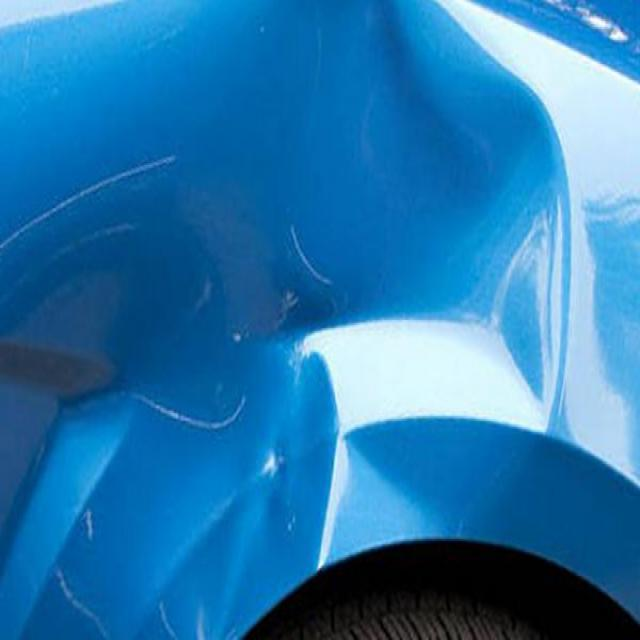dent: (225, 35, 623, 558)
